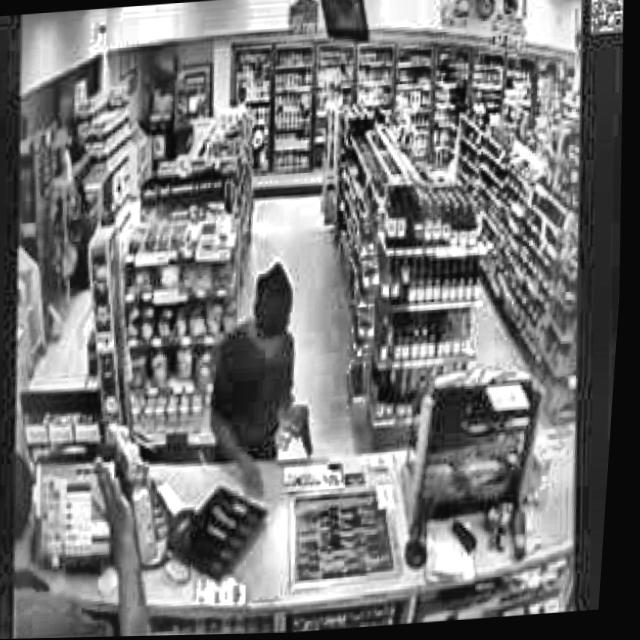robbery: (193, 259, 338, 509), (13, 443, 167, 639)
